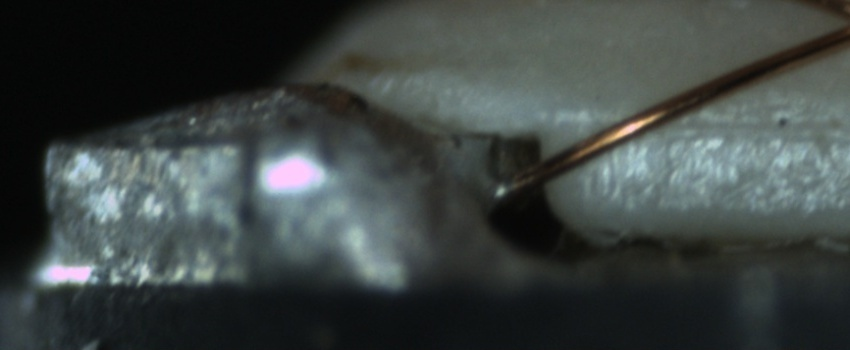CL: (829, 3, 850, 42)
DL: (575, 95, 848, 155)
